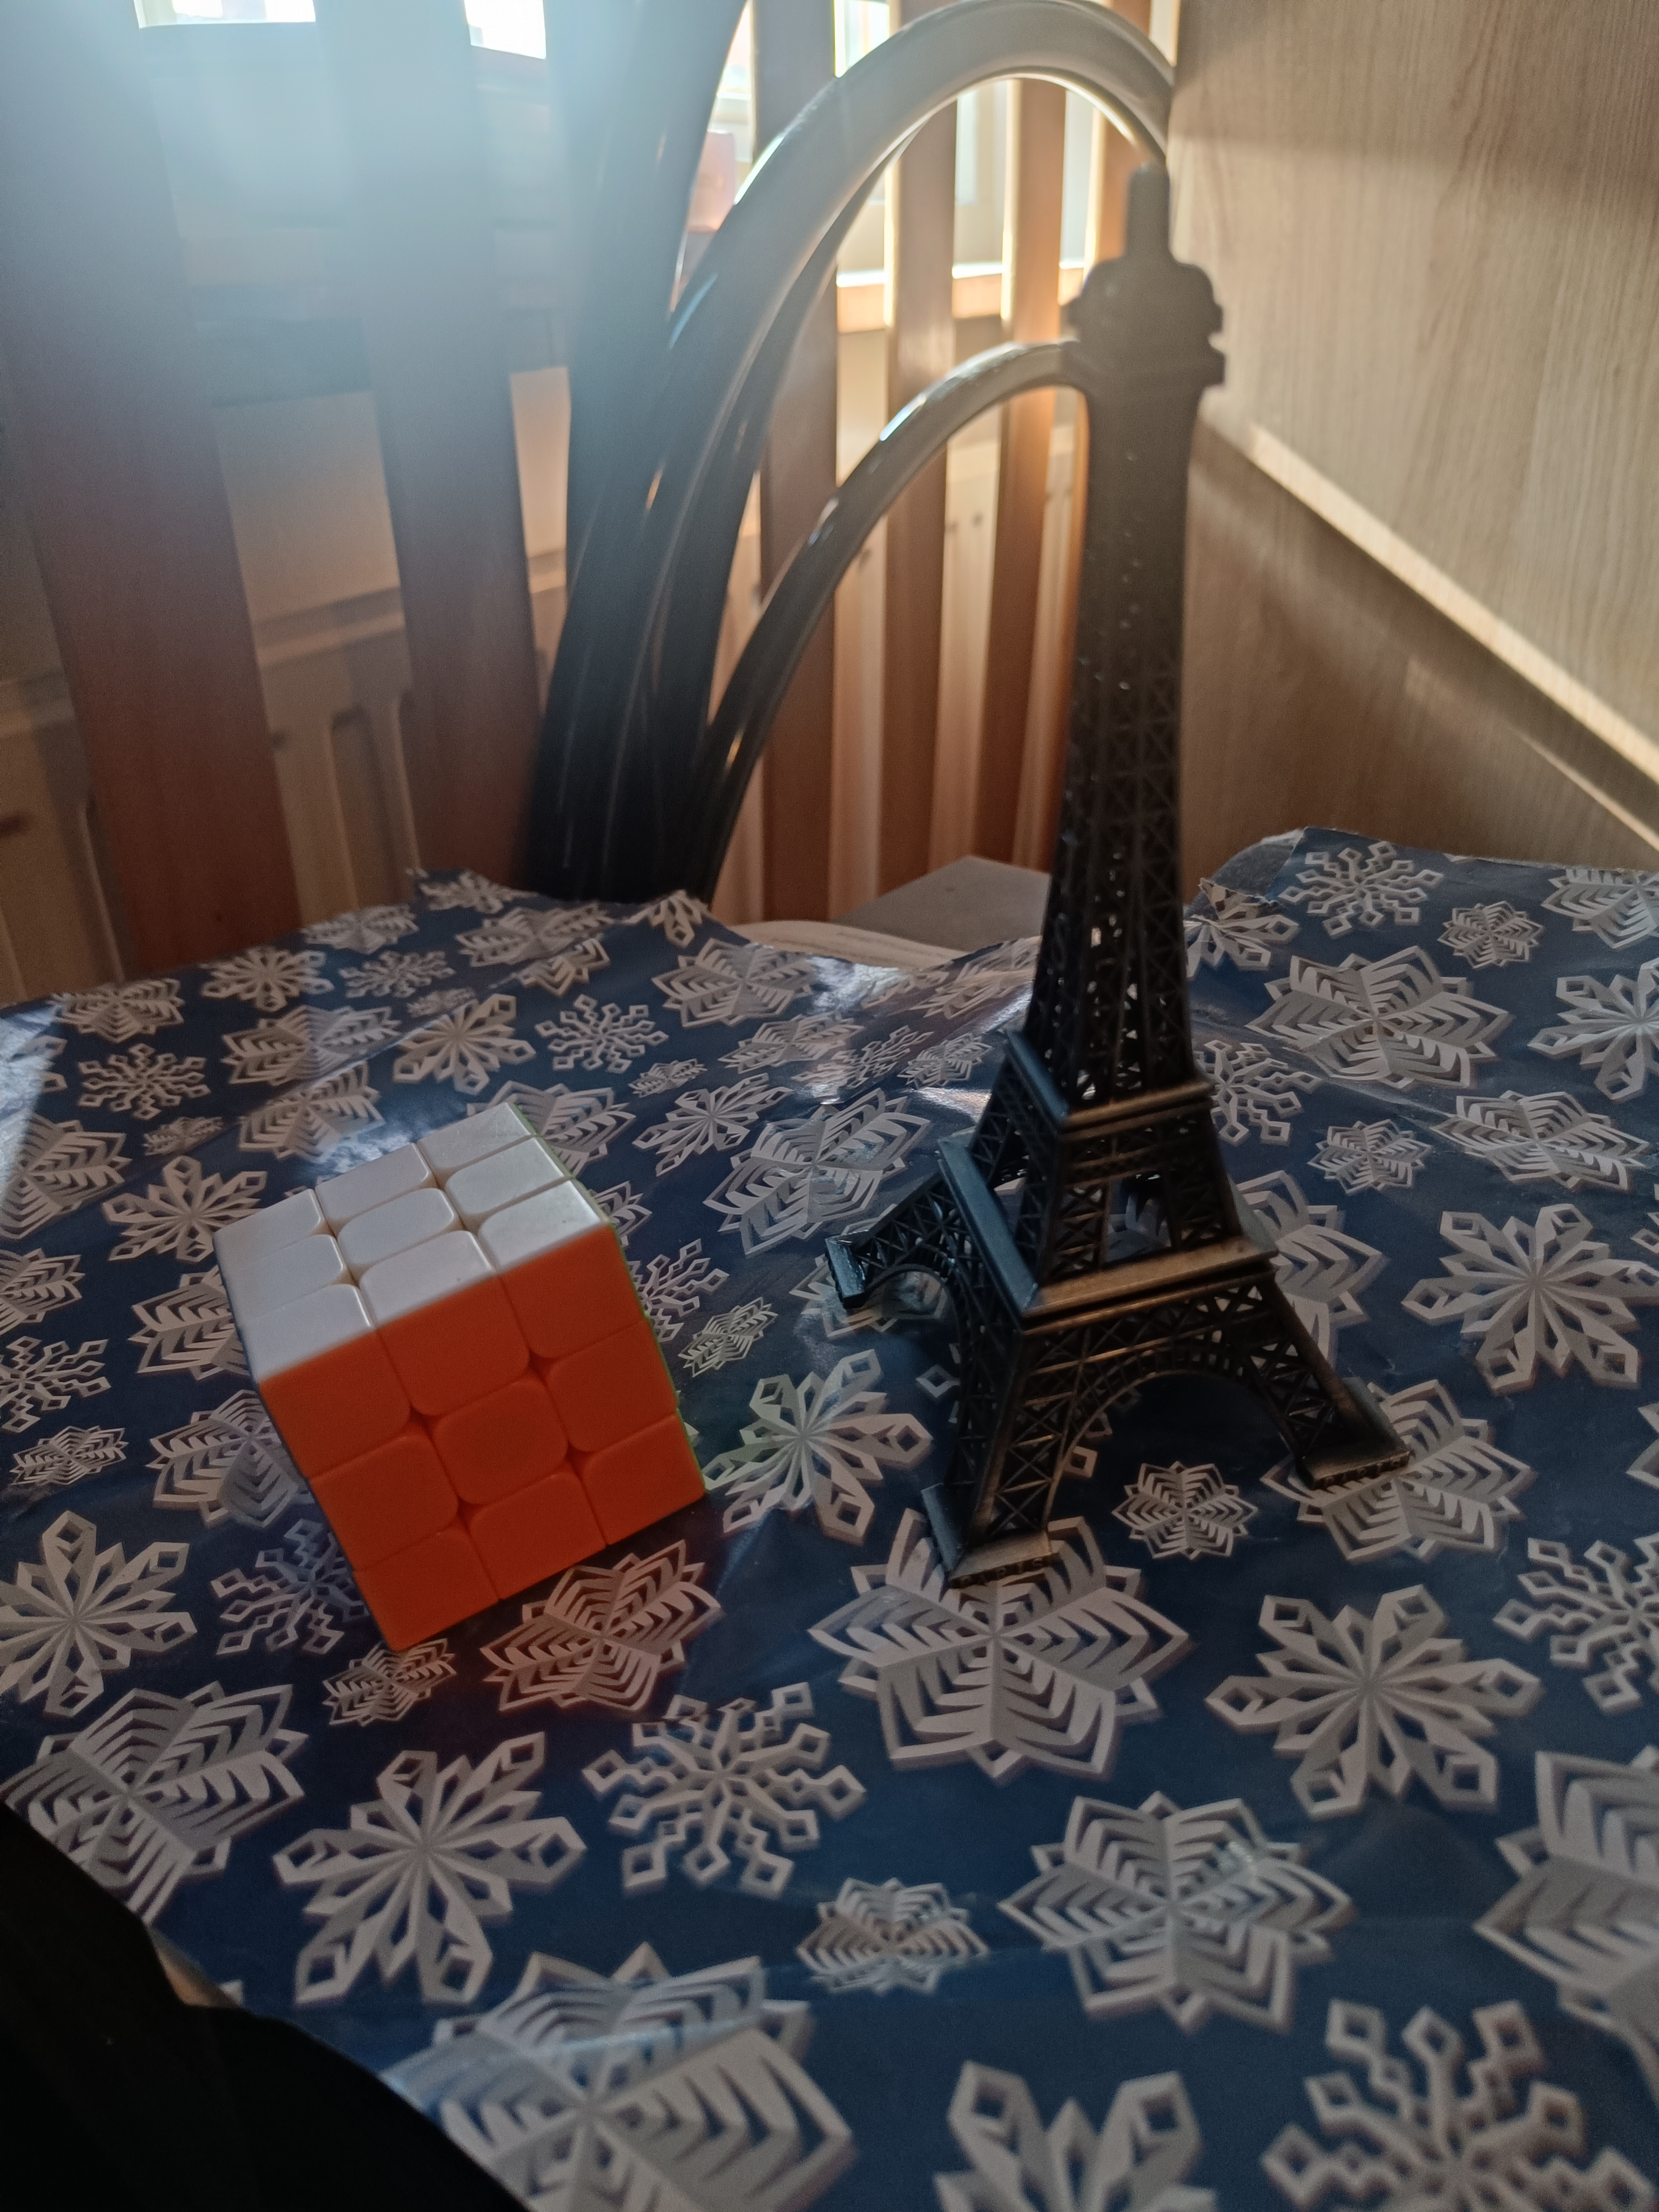Eiffel Tower: (817, 162, 1415, 1602)
Rubiks Cube: (202, 1062, 723, 1670)
